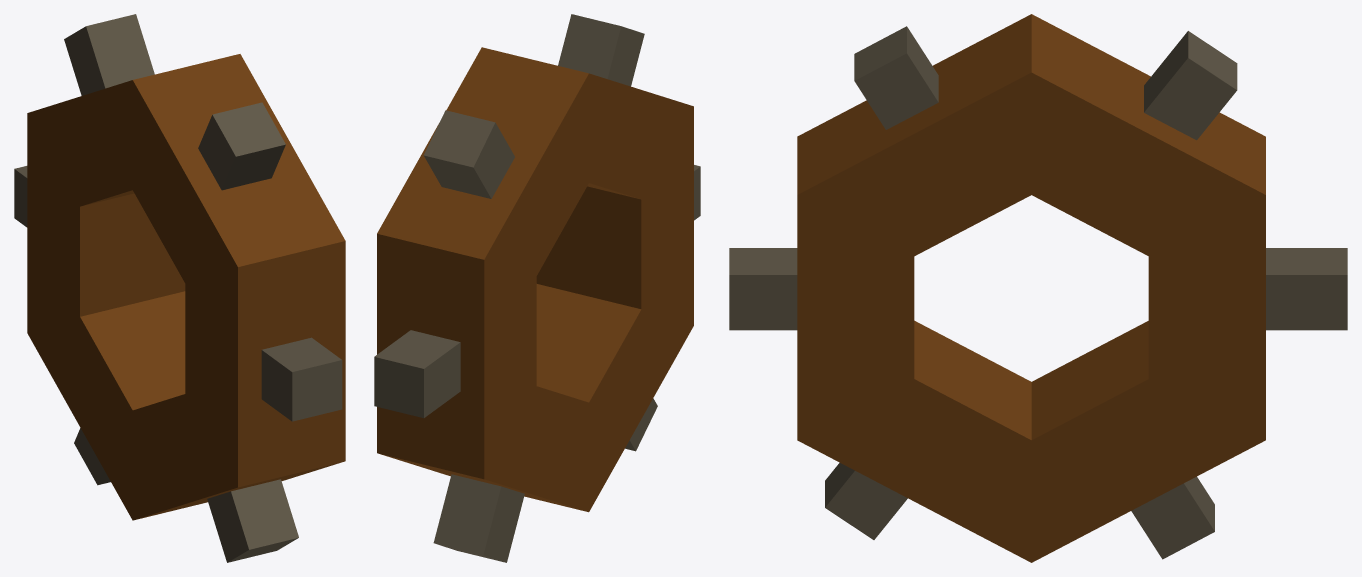
File: studdedwheel.fbx
3 renders of one model, left to right at view 1: azimuth 30°, elevation 25°; view 2: azimuth 150°, elevation 25°; view 3: azimuth 270°, elevation 25°, orthographic. The views are drawn at different scales.
Parts seen in each view (by area): view 1: polySurface234; view 2: polySurface234; view 3: polySurface234.
Part boxes in pixels (x1,y1,x2,y2): polySurface234: [14, 14, 345, 562]; polySurface234: [374, 14, 700, 562]; polySurface234: [729, 14, 1347, 562].
Bounding box in the file's own units: 9.06 × 36.57 × 40.48.
Materials: 1 (1 with a texture image).
